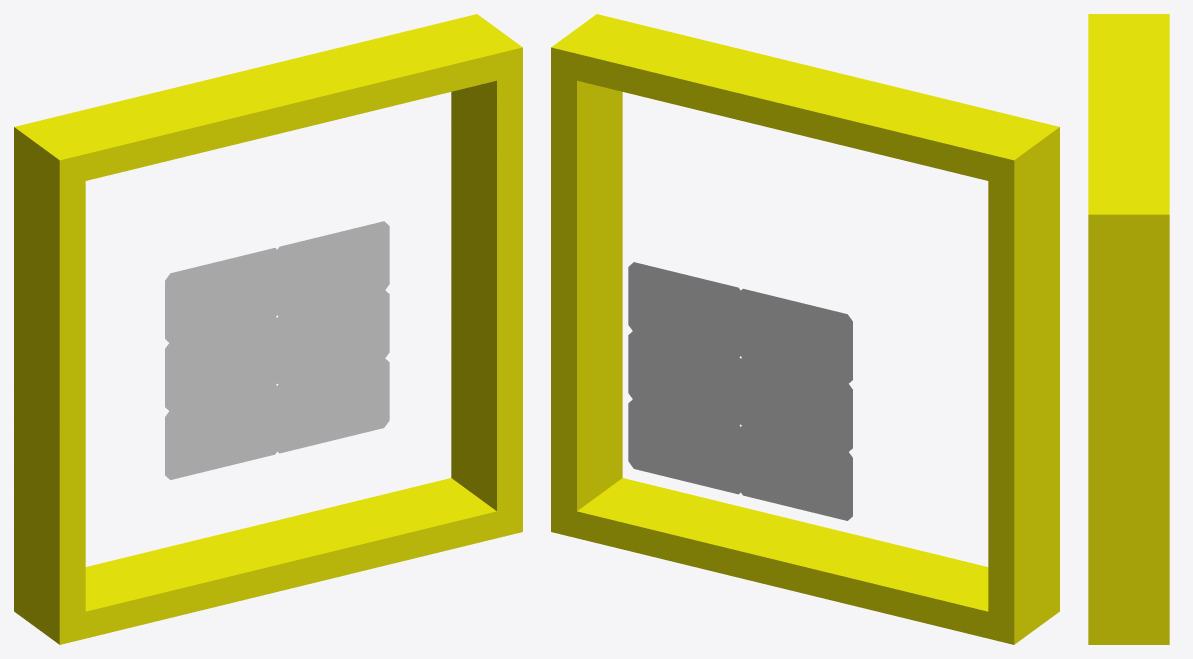
The model's file is highlights.fbx.
The picture shows the model from 3 angles, left to right: view 1: azimuth 30°, elevation 25°; view 2: azimuth 150°, elevation 25°; view 3: azimuth 270°, elevation 25°; orthographic projection. The views are drawn at different scales.
Parts seen in each view (by area): view 1: Component_Highlight, Button6Highlight, Button1Highlight, Button4Highlight, Button2Highlight, Button5Highlight, Button3Highlight; view 2: Component_Highlight, Button5Highlight, Button2Highlight, Button3Highlight, Button1Highlight, Button6Highlight, Button4Highlight; view 3: Component_Highlight.
Boxes of the visible parts, bbox=[...] form: Component_Highlight: bbox=[14, 14, 522, 644]; Button6Highlight: bbox=[165, 385, 280, 479]; Button1Highlight: bbox=[274, 221, 389, 316]; Button4Highlight: bbox=[165, 316, 280, 410]; Button2Highlight: bbox=[165, 248, 280, 343]; Button5Highlight: bbox=[274, 357, 389, 453]; Button3Highlight: bbox=[274, 289, 389, 385]; Component_Highlight: bbox=[551, 14, 1059, 644]; Button5Highlight: bbox=[628, 398, 743, 494]; Button2Highlight: bbox=[737, 288, 852, 383]; Button3Highlight: bbox=[628, 330, 743, 424]; Button1Highlight: bbox=[628, 262, 741, 357]; Button6Highlight: bbox=[739, 425, 852, 520]; Button4Highlight: bbox=[740, 358, 852, 452]; Component_Highlight: bbox=[1088, 14, 1169, 644].
Bounding box in the file's own units: 2239 × 2239 × 425.
